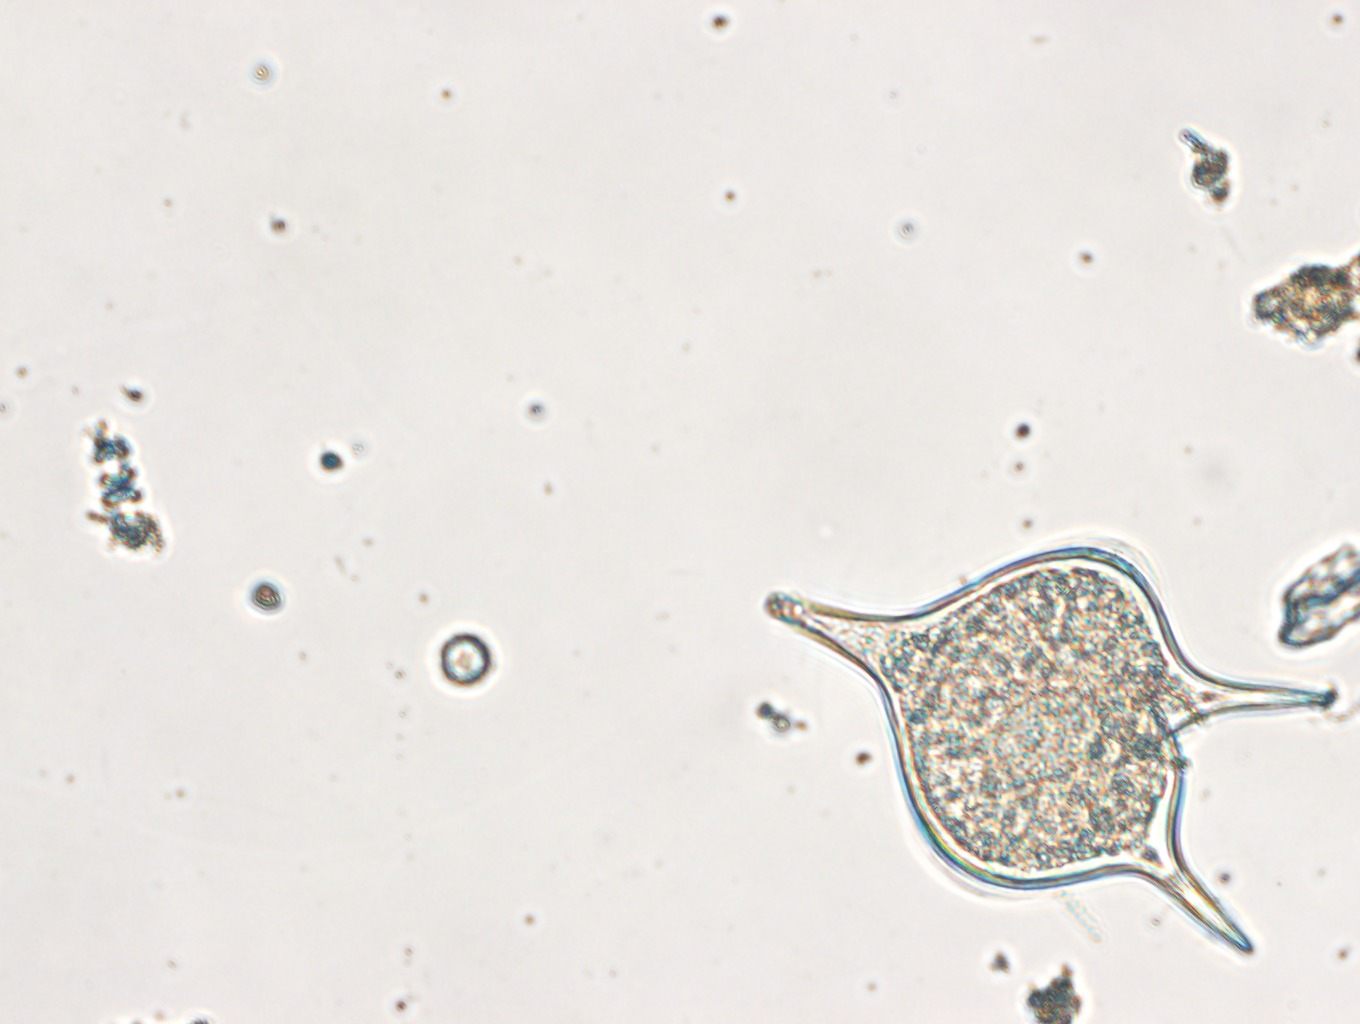protoperidinium: (764, 545, 1337, 957)
